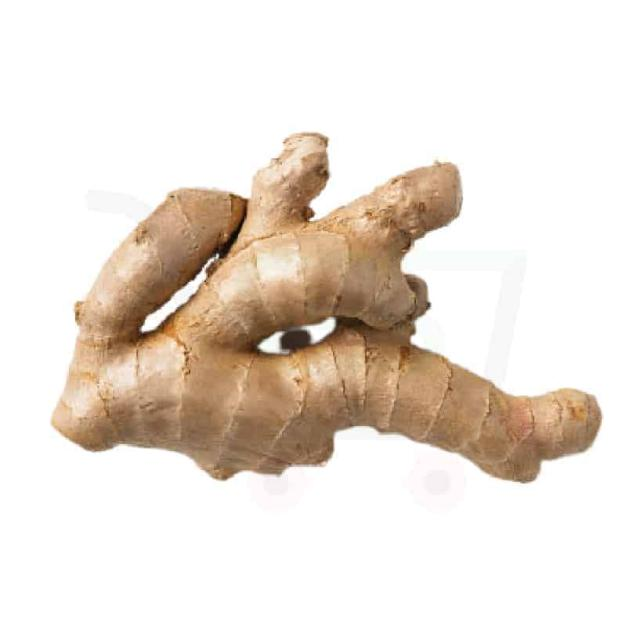ginger-root: (41, 121, 619, 531)
